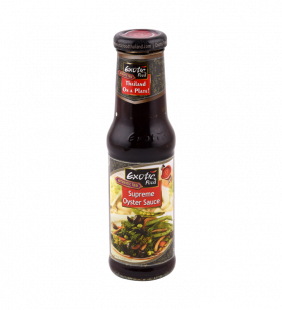EXOTIC FOOD: (101, 23, 181, 286)
